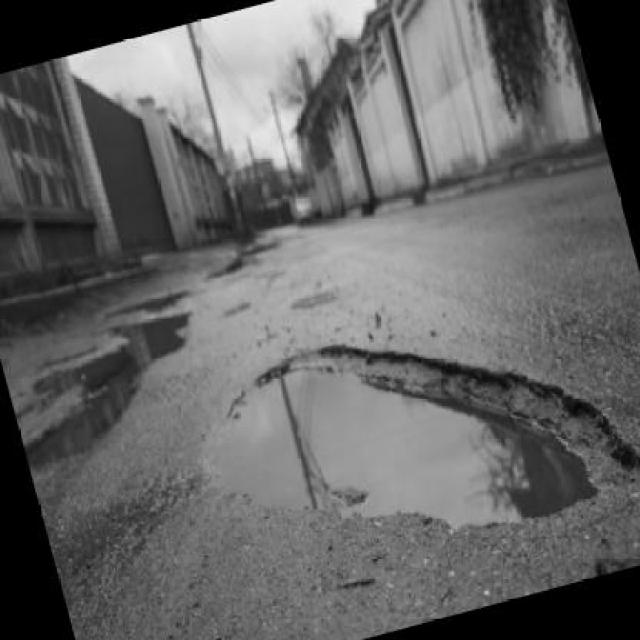pothole: (177, 266, 638, 603)
